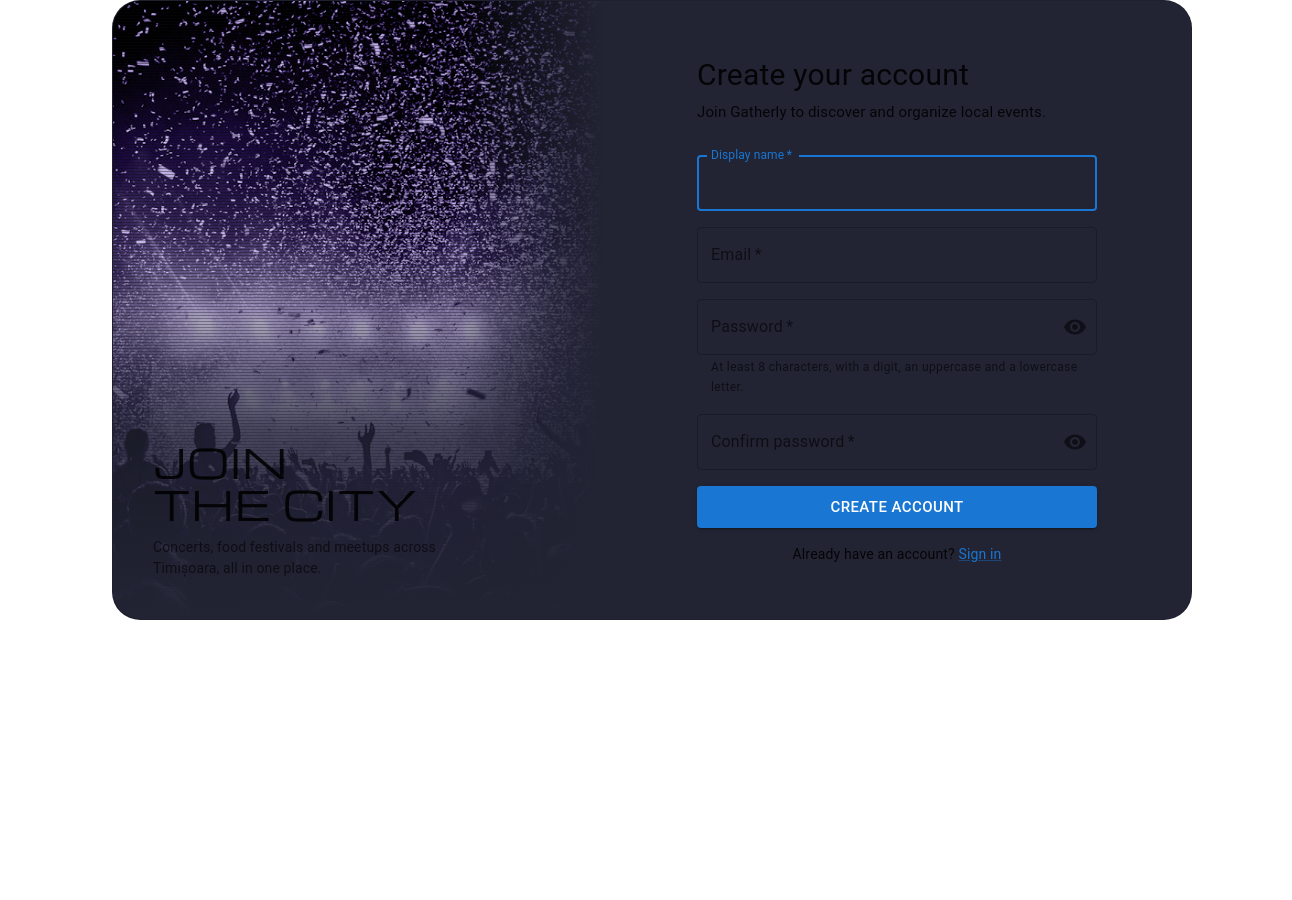
RegisterPage › registers with valid data
In the field labelled "Display name *": [897, 183] box [697,155,1097,211], type "Diana"
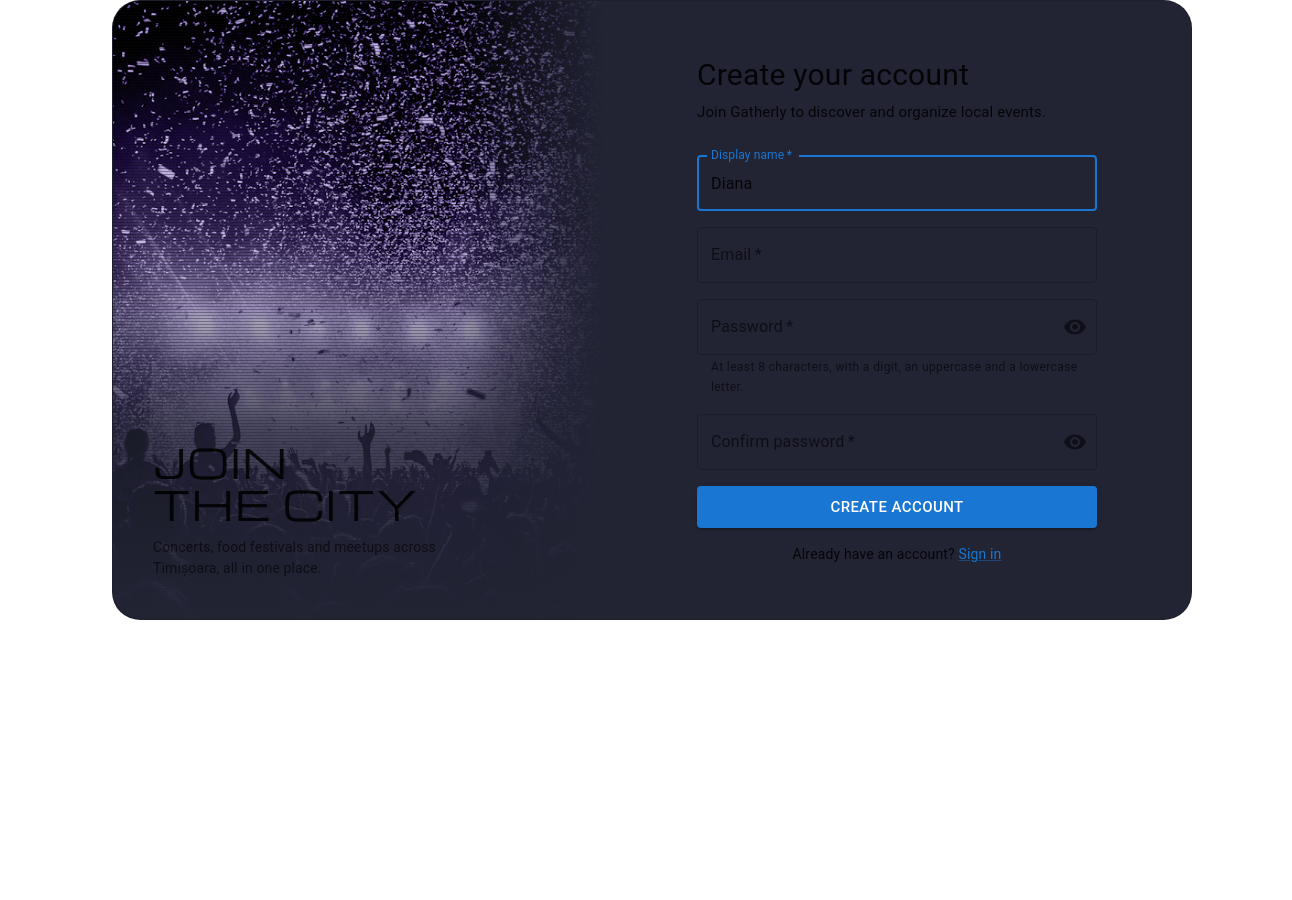
In the field labelled "Email *": [897, 255] box [697,227,1097,283], type "diana@example.com"
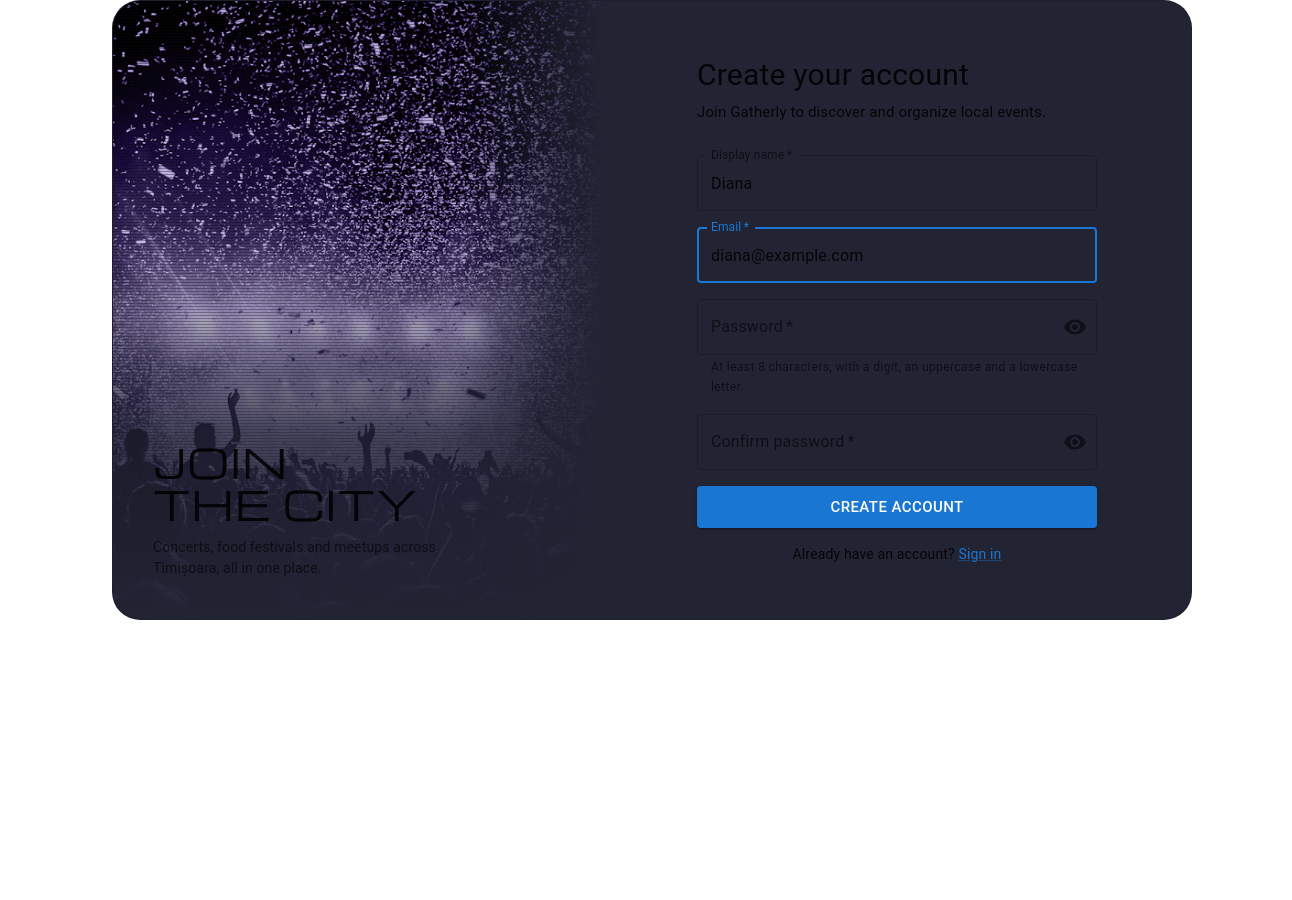
In the password field labelled "Password *": [872, 327] box [697,299,1047,355], type "Secret123"
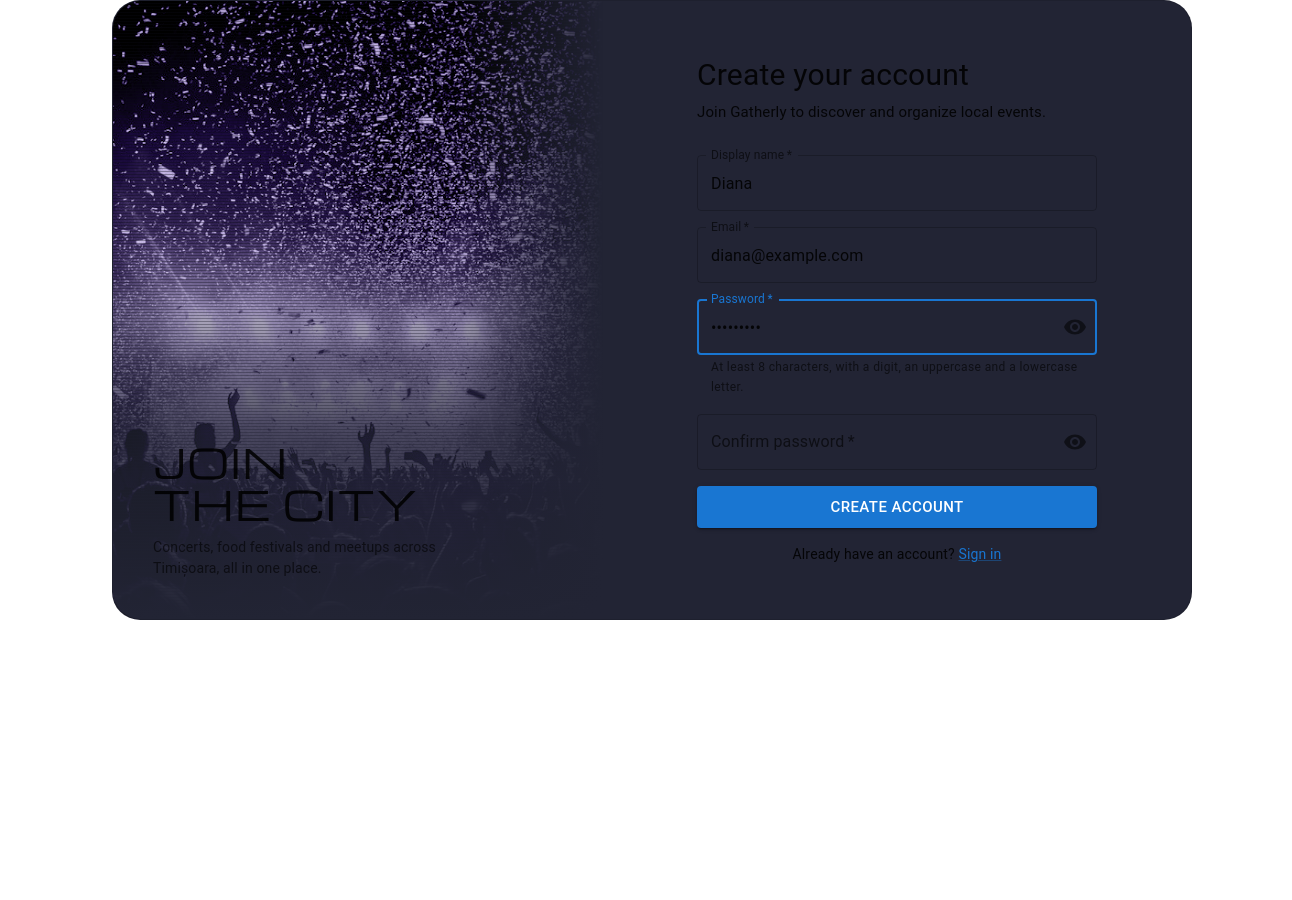
In the password field labelled "Confirm password *": [872, 442] box [697,414,1047,470], type "Secret123"
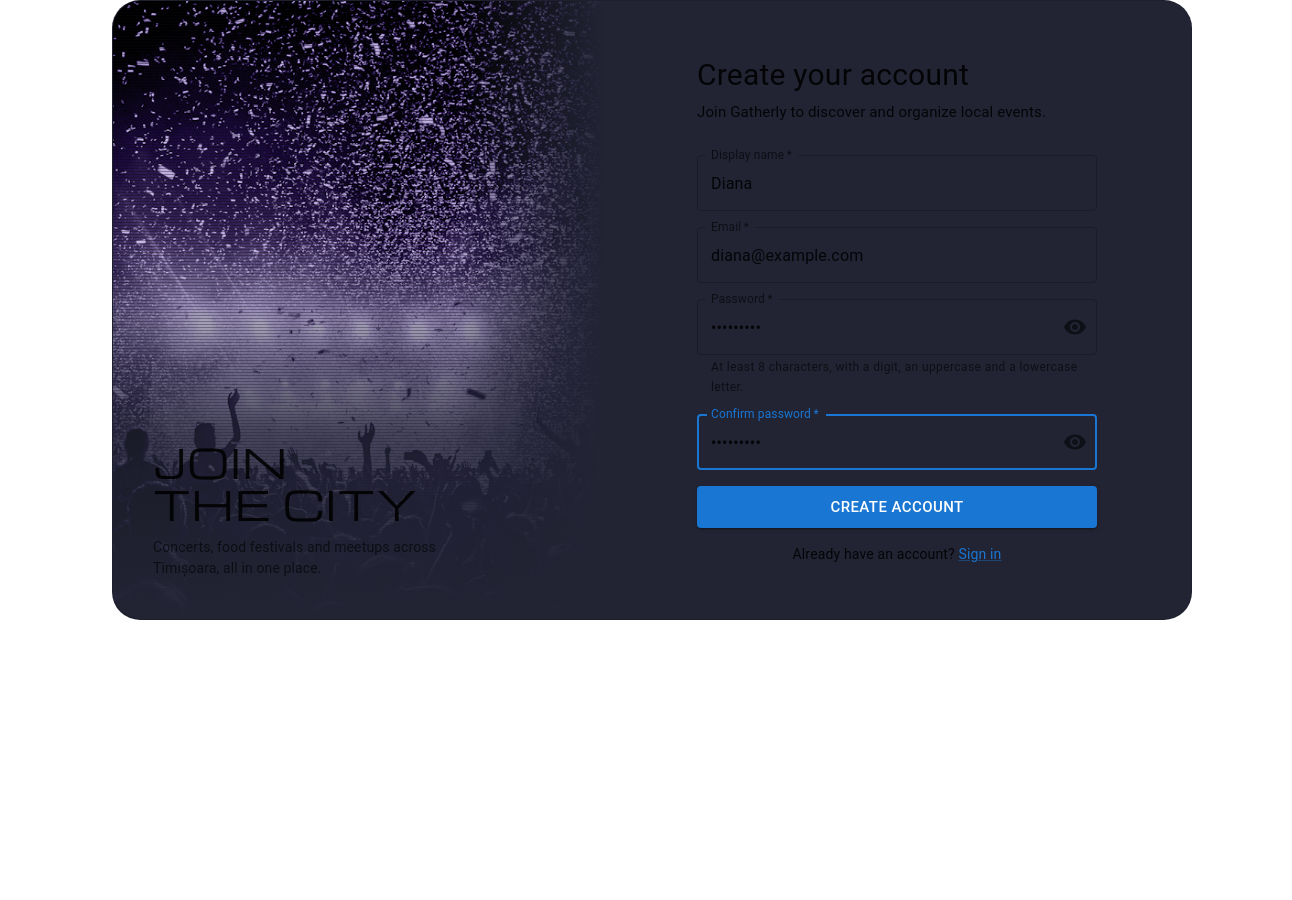
Click the button "Create account": [897, 507] box [697,486,1097,528]
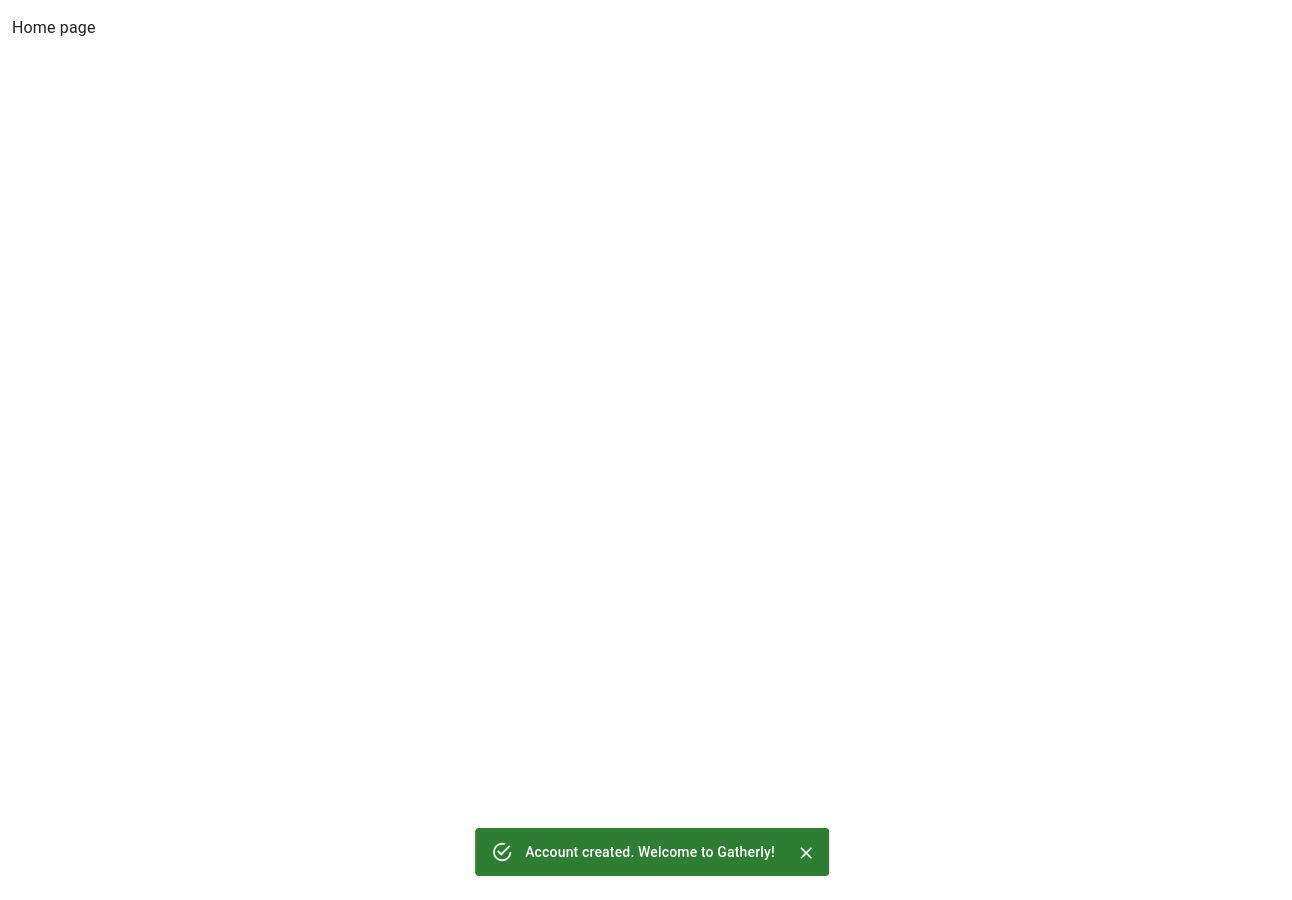
Expected: the text "Home page" is shown, [12,18,96,37]
